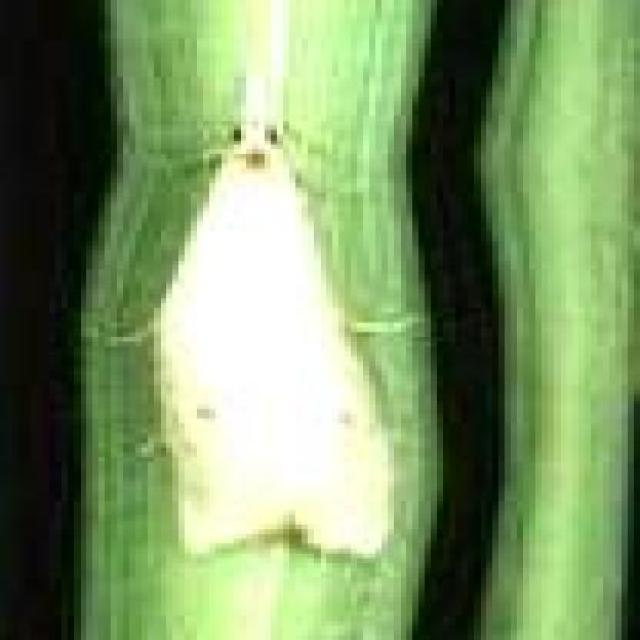stem-borer: (97, 55, 408, 559)
